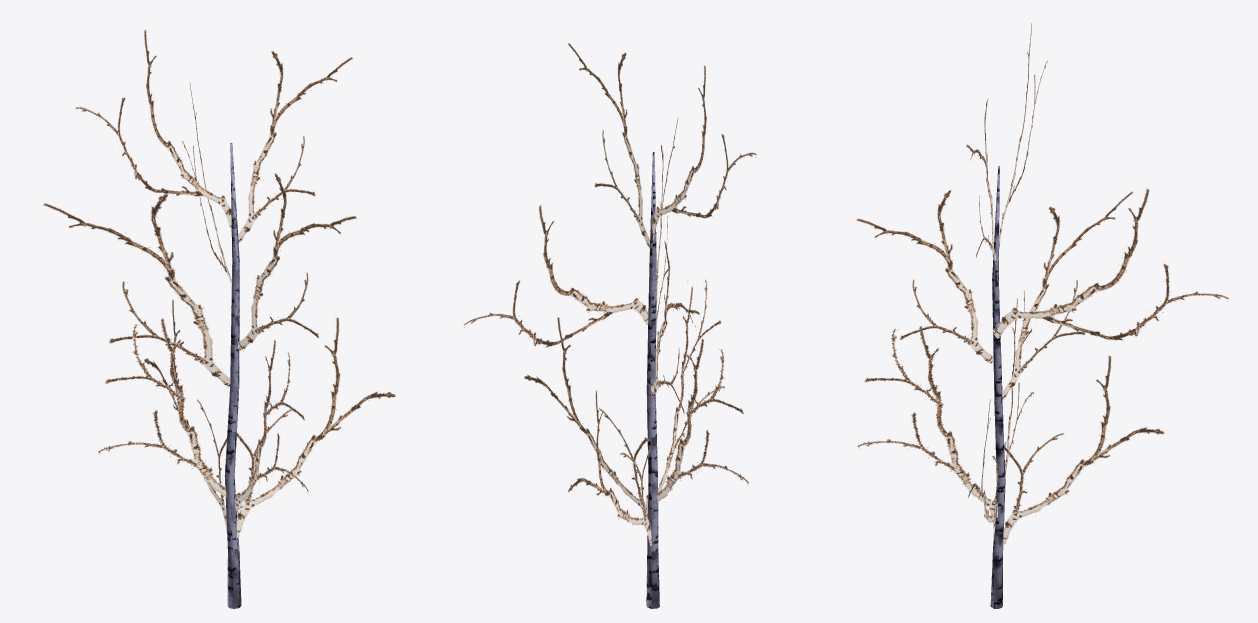
The model's file is koivu2.glb.
3 views of the same model, side by side, from view 1: azimuth 30°, elevation 25°; view 2: azimuth 150°, elevation 25°; view 3: azimuth 270°, elevation 25° (orthographic). The views are drawn at different scales.
Visible parts, largest first — view 1: koivu2; view 2: koivu2; view 3: koivu2.
Boxes of the visible parts, bbox=[...] form: koivu2: bbox=[42, 29, 395, 608]; koivu2: bbox=[463, 43, 756, 608]; koivu2: bbox=[855, 23, 1229, 608].
Size of the model in its own units: 21.85 by 37.24 by 26.17.
Materials: 2 (2 with a texture image).
